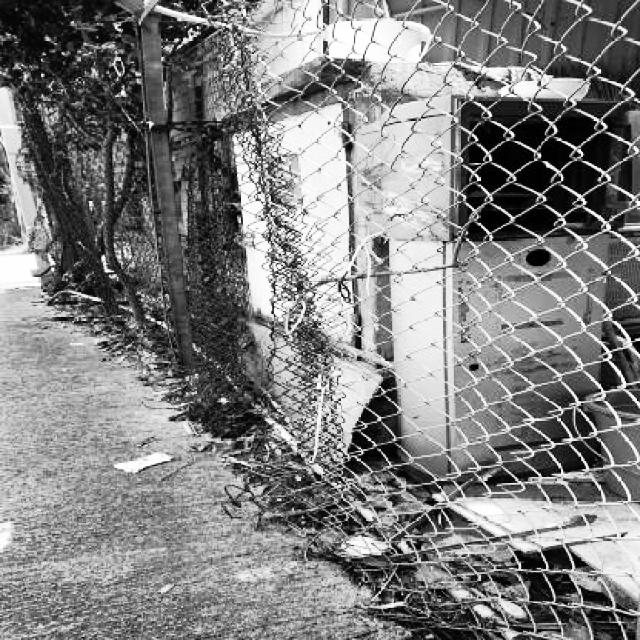anomaly-fence: (43, 7, 370, 480)
